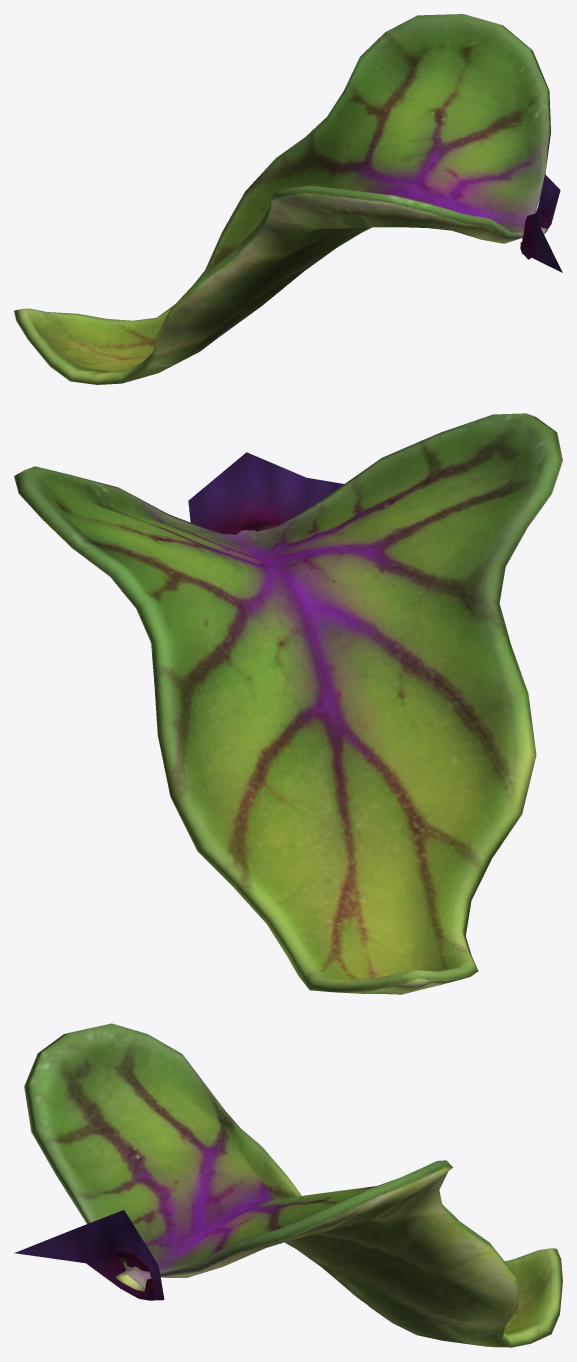
Rendered from carnivora_hoja_tras_der.obj.
3 renders of one model, top to bottom at view 1: azimuth 30°, elevation 25°; view 2: azimuth 150°, elevation 25°; view 3: azimuth 270°, elevation 25°, orthographic. The views are drawn at different scales.
Parts seen in each view (by area): view 1: carnivora_hoja_tras_der; view 2: carnivora_hoja_tras_der; view 3: carnivora_hoja_tras_der.
Boxes of the visible parts, left/top/right/bottom form: carnivora_hoja_tras_der: left=14, top=14, right=562, bottom=384; carnivora_hoja_tras_der: left=14, top=413, right=562, bottom=994; carnivora_hoja_tras_der: left=14, top=1023, right=562, bottom=1347.
Size of the model in its own units: 0.359 by 0.2405 by 0.3658.
